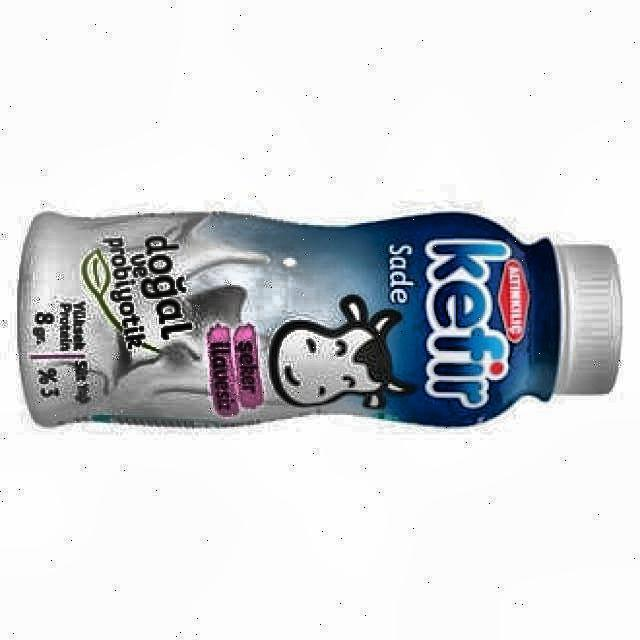plastic: (19, 212, 620, 426)
